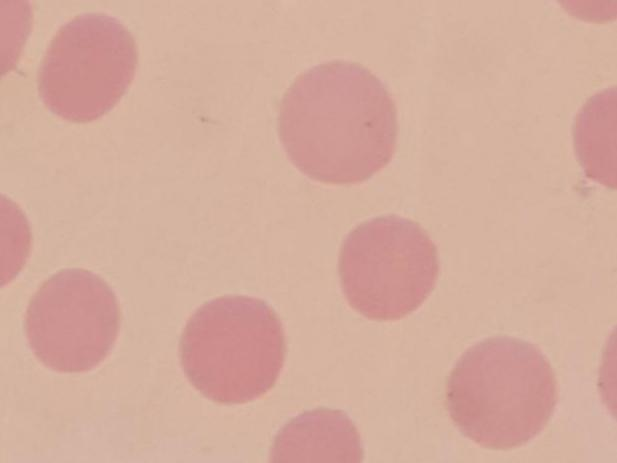Uninfected: (279, 58, 399, 185), (443, 334, 556, 451), (36, 9, 137, 124), (179, 297, 285, 406), (340, 213, 437, 324), (22, 268, 118, 374), (269, 408, 366, 463)
